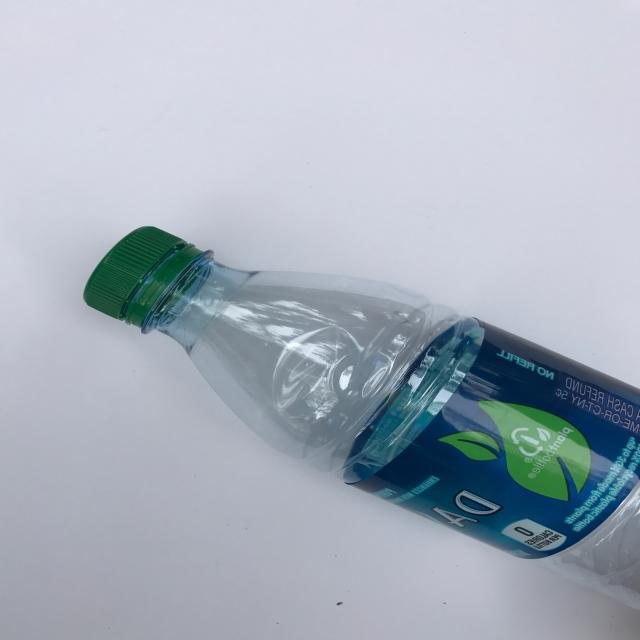plastic: (83, 224, 640, 611)
